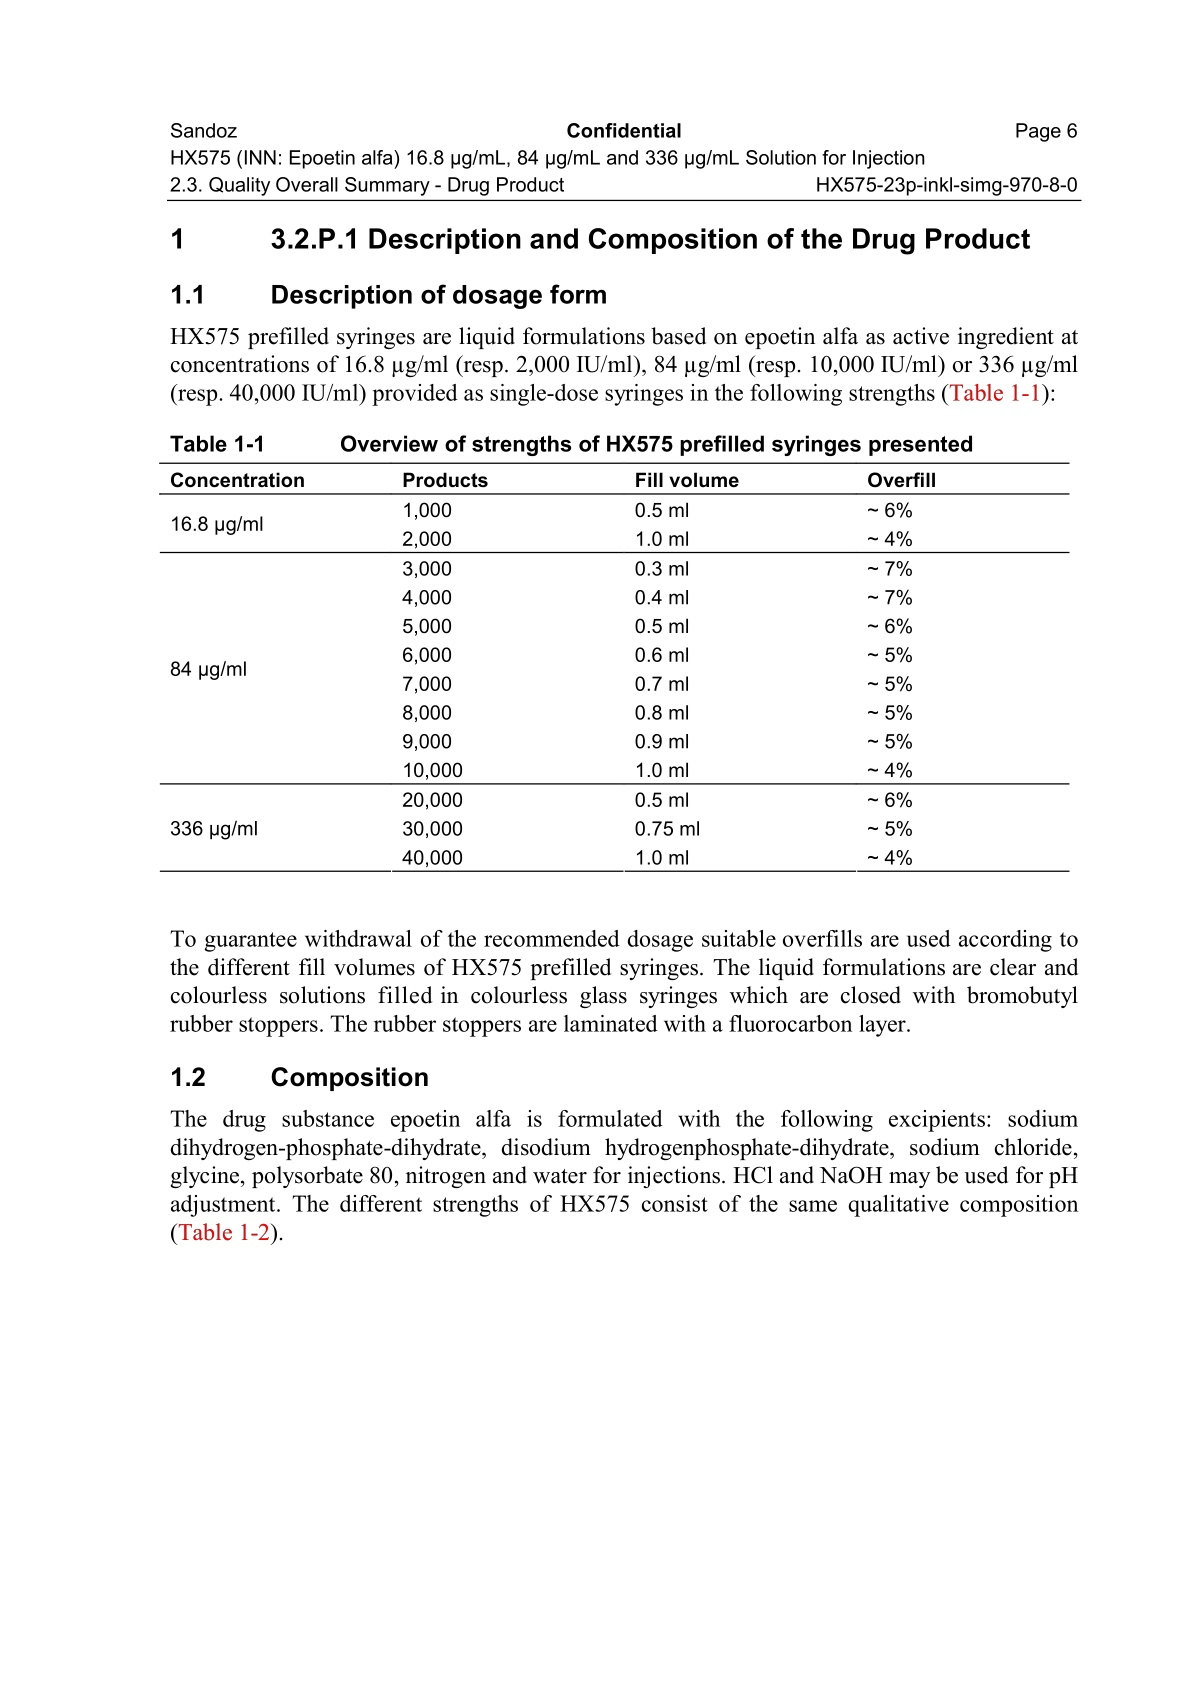partial_lined: (159, 461, 1070, 874)
